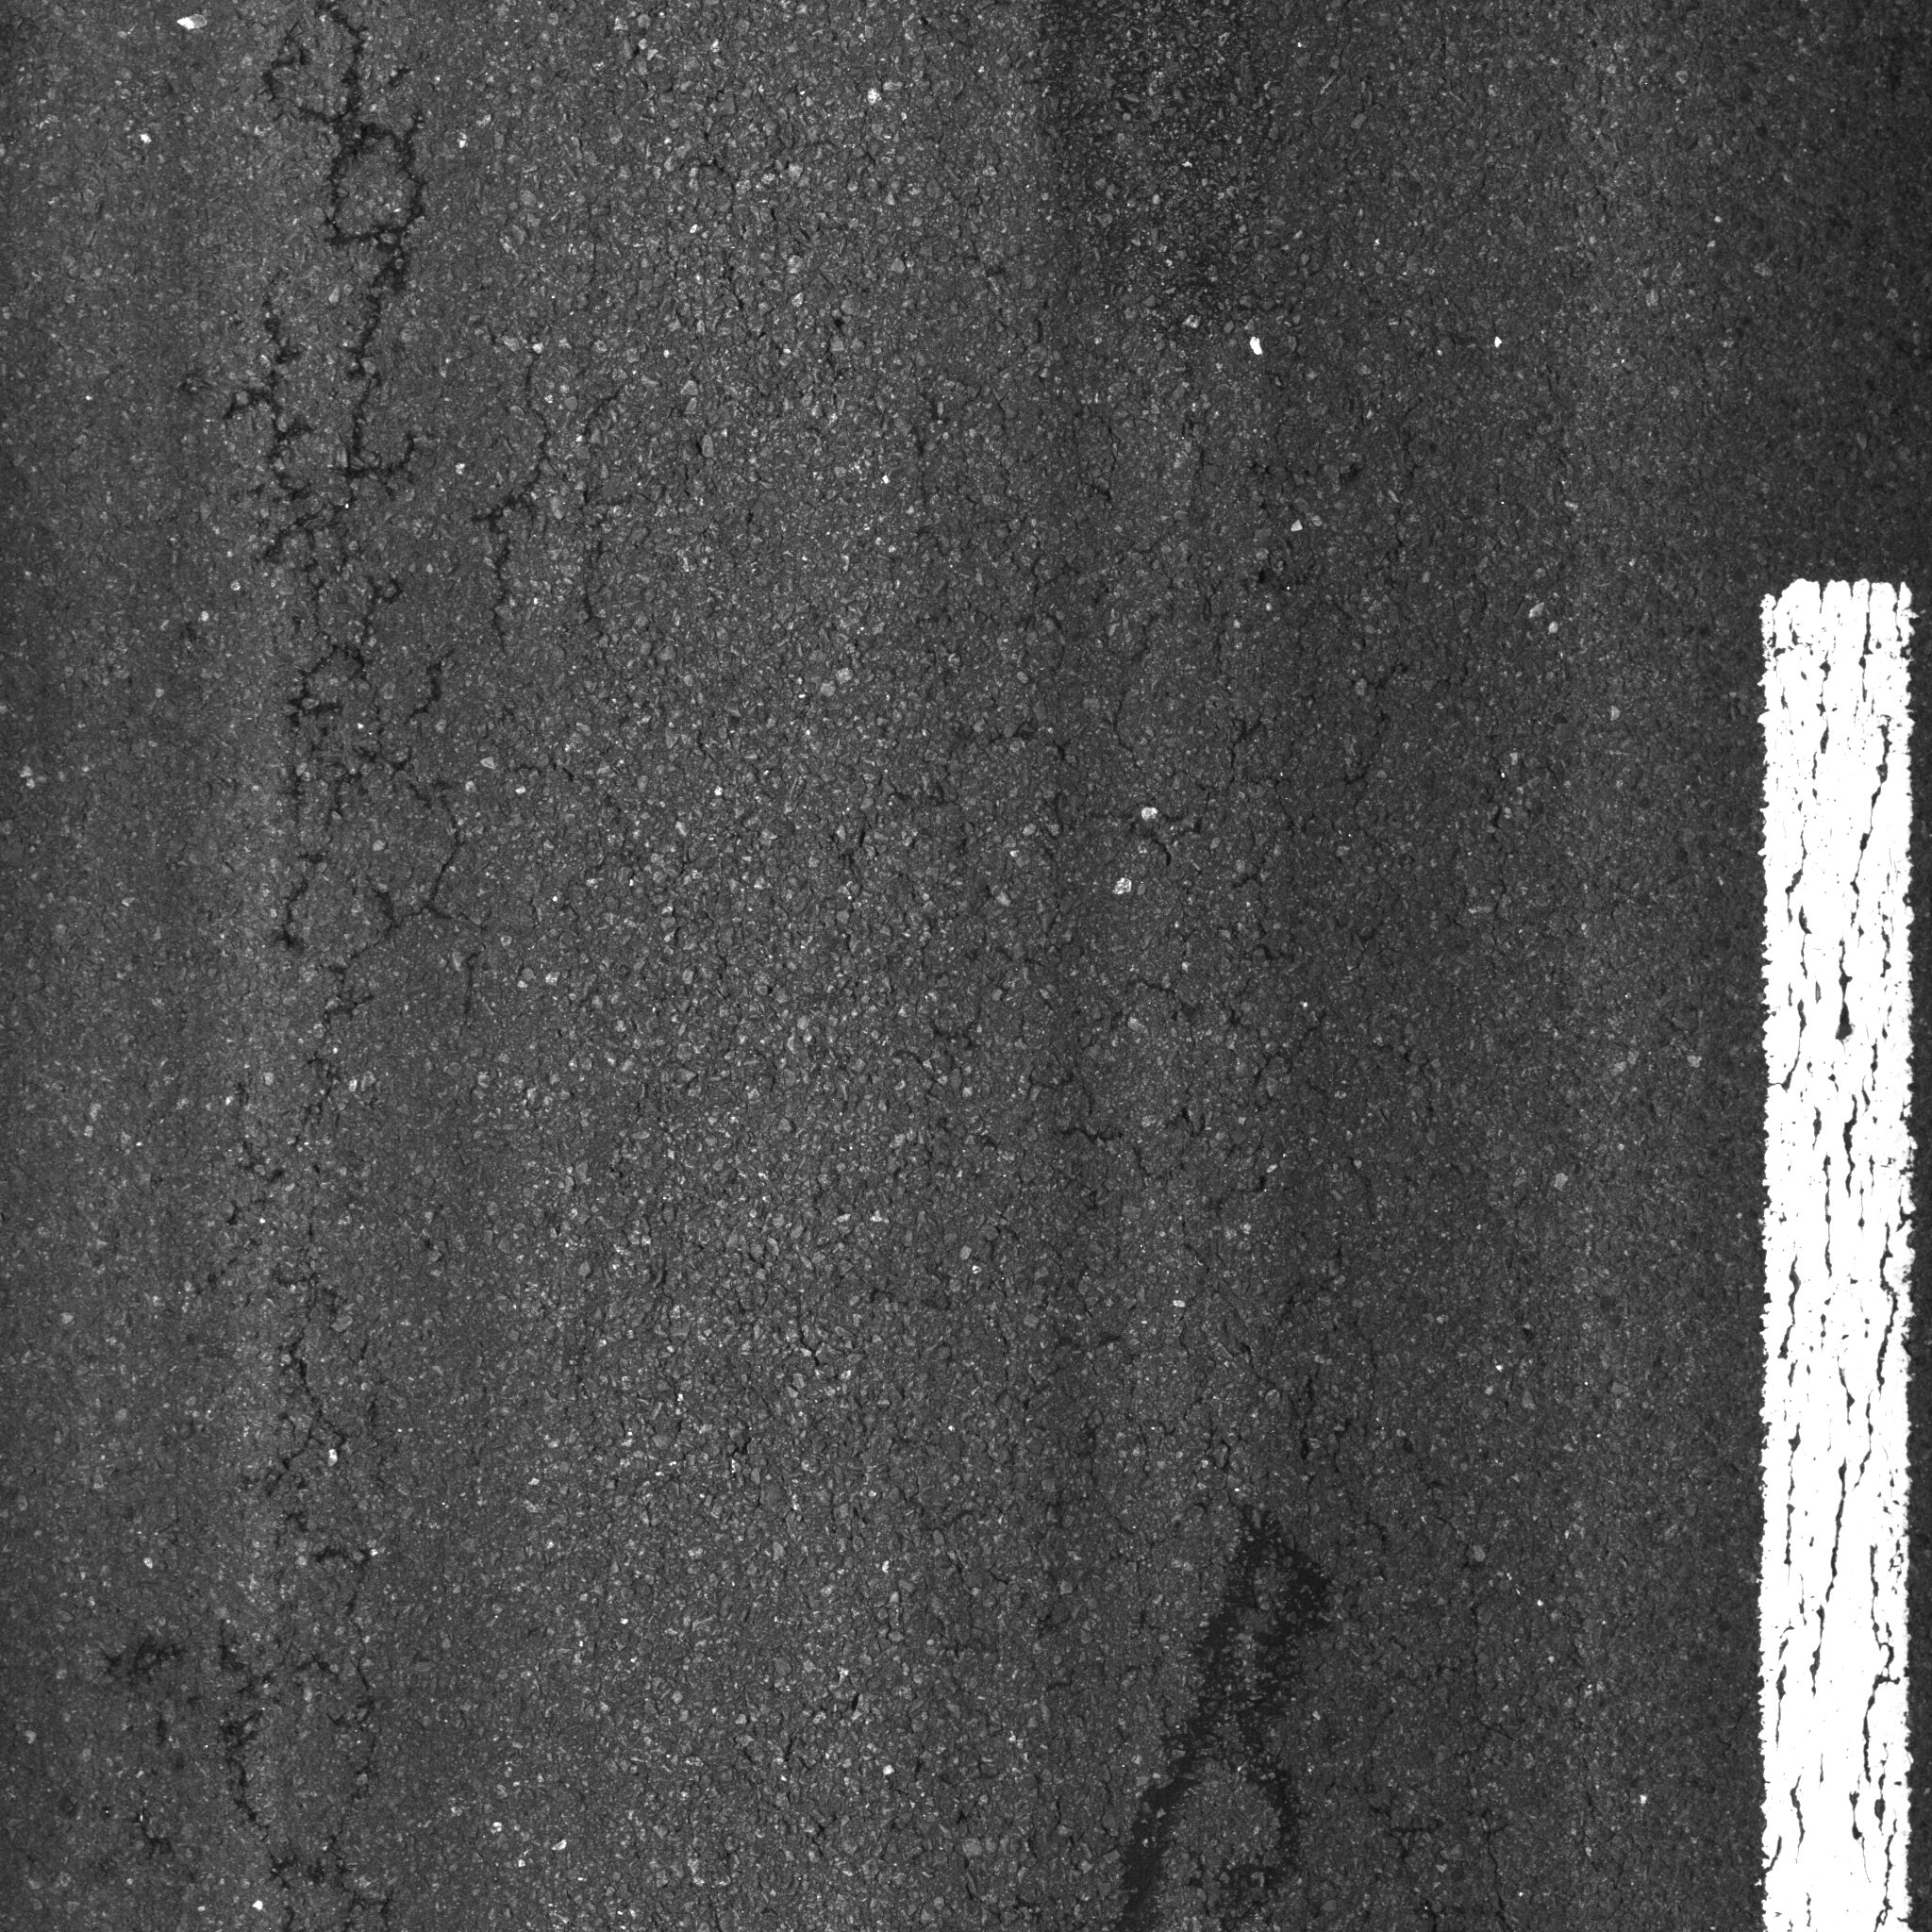alligator: (764, 145, 1637, 1852), (136, 9, 706, 1921)
